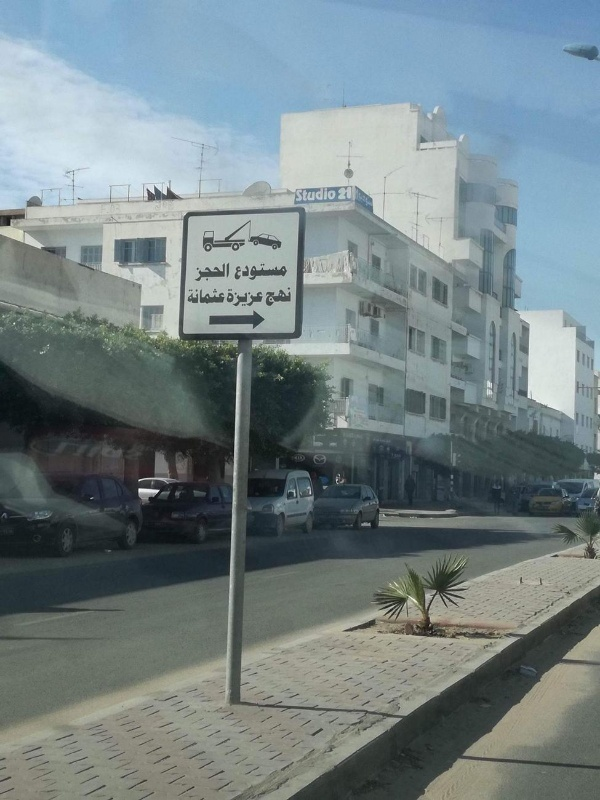text: (273, 286, 288, 309), (209, 261, 224, 283), (241, 288, 256, 309), (273, 263, 289, 282), (226, 288, 240, 309), (195, 261, 208, 283), (241, 263, 256, 282), (257, 263, 272, 282), (356, 189, 368, 210), (193, 289, 208, 305), (209, 289, 224, 305), (321, 188, 337, 202), (305, 188, 320, 202), (338, 186, 352, 201), (265, 286, 272, 309), (257, 288, 264, 309), (225, 261, 231, 283), (295, 188, 304, 202), (234, 263, 240, 282), (289, 286, 293, 309), (369, 189, 373, 210), (187, 289, 192, 305), (225, 289, 226, 305)
